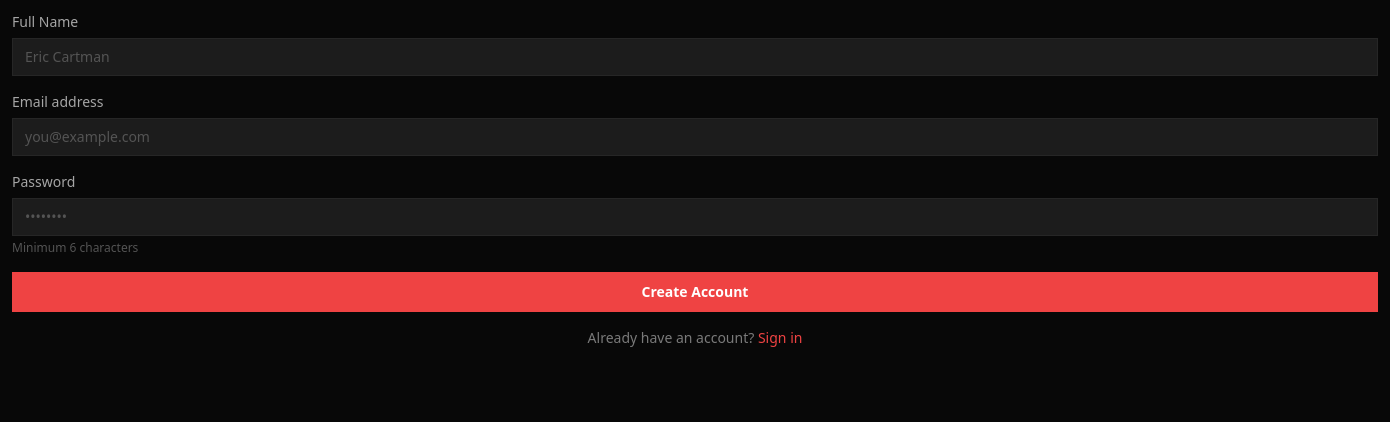
Test case: RegisterPage › shows success message after registration
Step 1. Type "Test User" into the field labelled "Full Name" → (695, 57), box [12,38,1378,76]
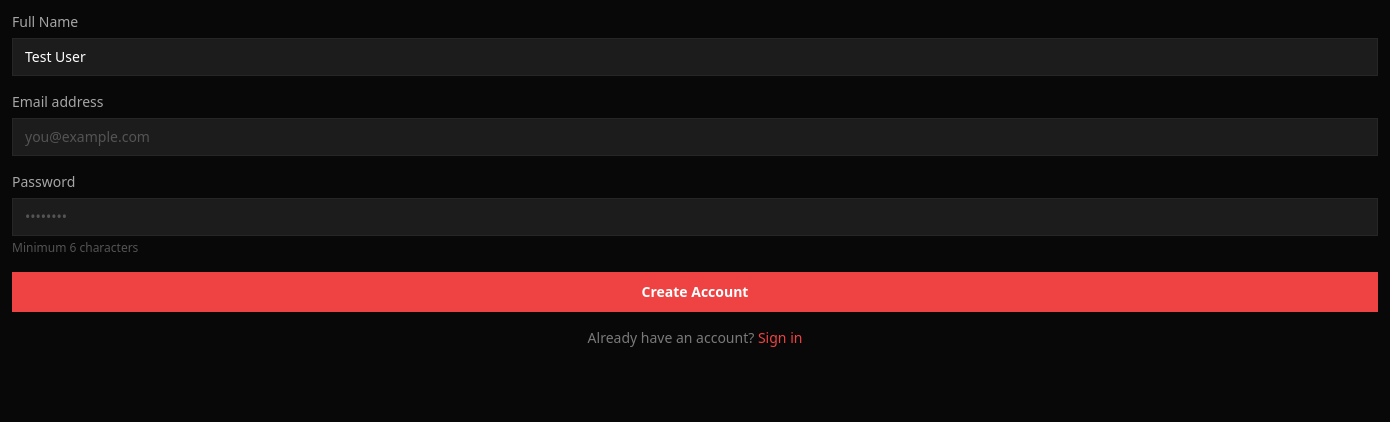
Step 2. Type "new@test.com" into the field labelled "Email address" → (695, 137), box [12,118,1378,156]
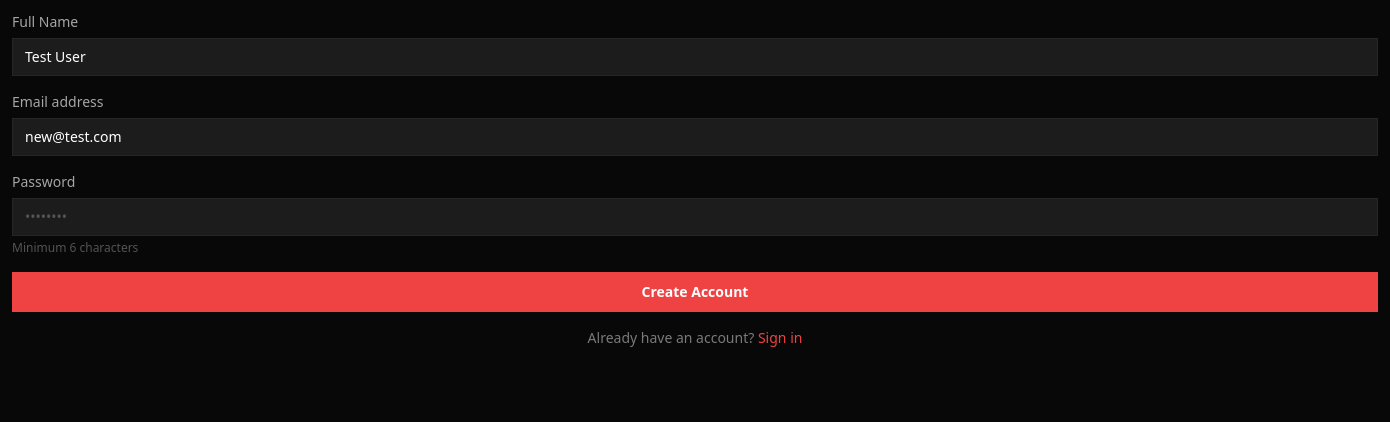
Step 3. Type "StrongPass1!" into the password field labelled "Password" → (695, 217), box [12,198,1378,236]
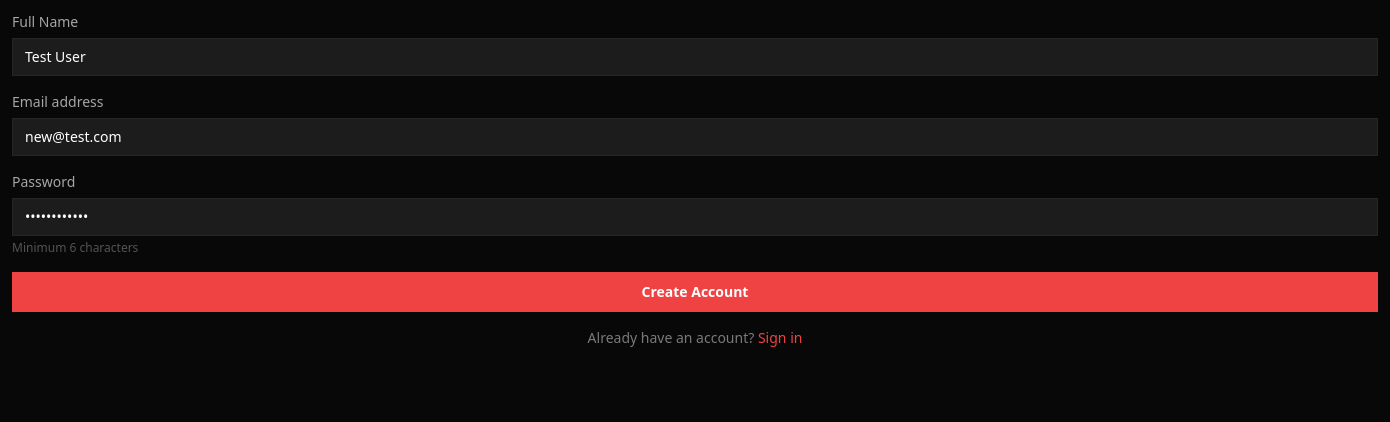
Step 4. Click the button "Create Account" → (695, 292), box [12,272,1378,312]
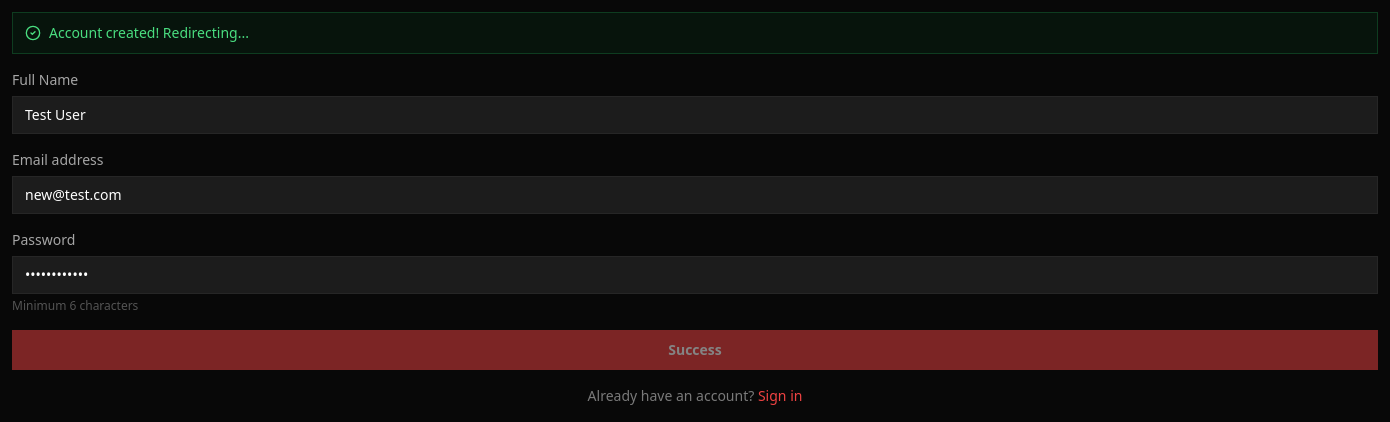
expect the text "Account created! Redirecting..." is shown: met, box [12,12,1378,54]
